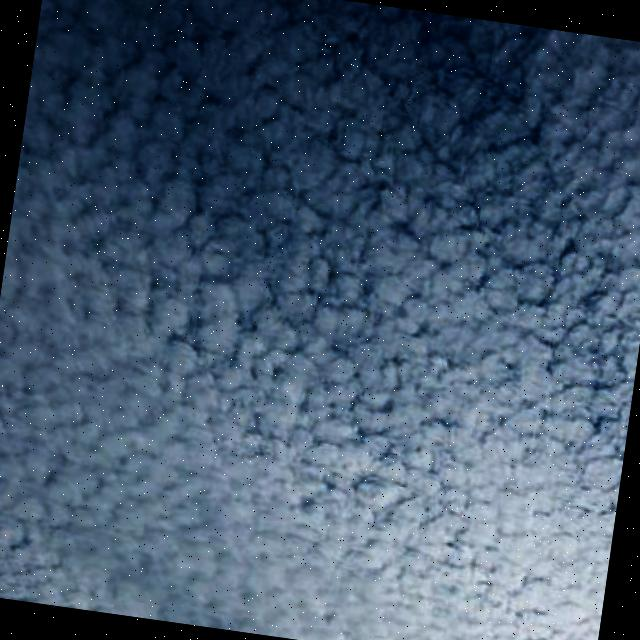Cc: (1, 1, 640, 598)
